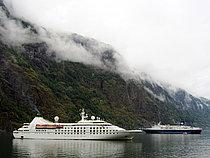Ship: (11, 106, 140, 144)
